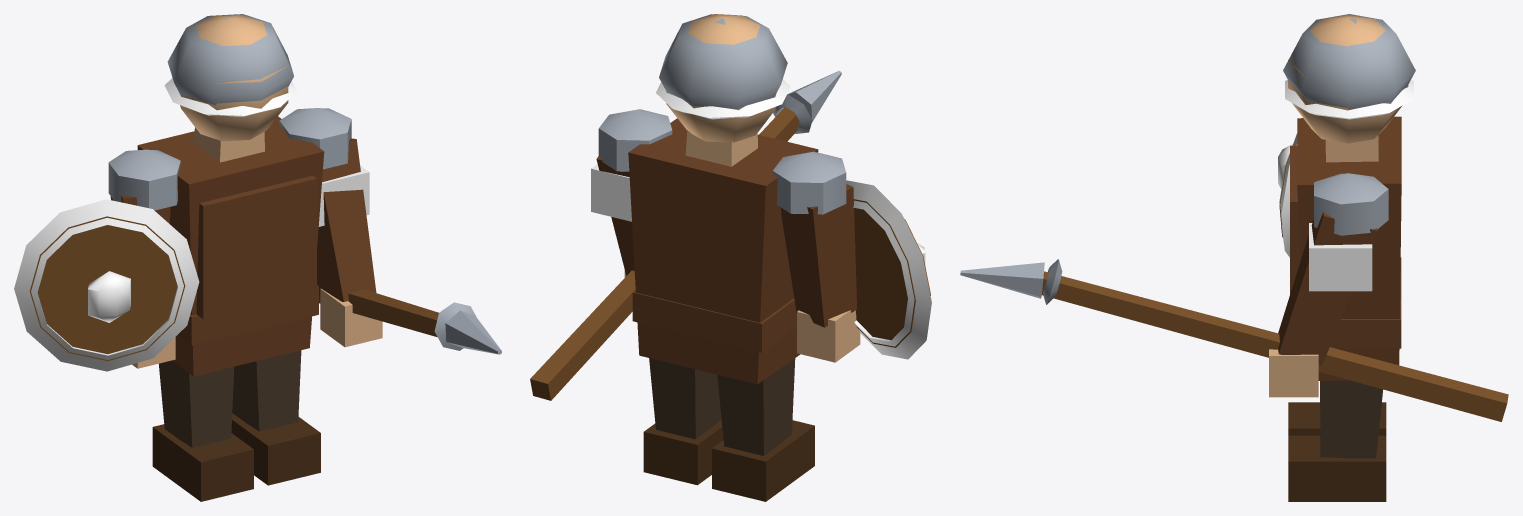
Rendered from Militia_SecondAge.glb.
3 renders of one model, left to right at view 1: azimuth 30°, elevation 25°; view 2: azimuth 150°, elevation 25°; view 3: azimuth 270°, elevation 25°, orthographic.
Visible parts, largest first — view 1: Leather, Steel, Left_Wood, Left_Team, Right_Leather, Skin, LegA_Dark, LegA_Trouser, LegB_Trouser, LegB_Dark, Right_Wood, Right_Skin (+3 smaller); view 2: Leather, Steel, Left_Leather, Left_Wood, LegA_Trouser, Skin, Left_Team, Right_Wood, LegA_Dark, LegB_Trouser, LegB_Dark, Left_Skin (+4 smaller); view 3: Leather, Steel, Right_Wood, Right_Leather, LegB_Dark, Skin, LegB_Trouser, Right_Team, Right_Steel, Right_Skin, Team, LegA_Dark (+1 smaller).
Part boxes in pixels (x1,y1,x2,y2): Leather: [137, 116, 324, 376]; Steel: [108, 14, 351, 210]; Left_Wood: [29, 216, 185, 360]; Left_Team: [14, 199, 199, 371]; Right_Leather: [317, 138, 376, 301]; Skin: [180, 14, 288, 162]; LegA_Dark: [152, 424, 253, 501]; LegA_Trouser: [159, 360, 234, 447]; LegB_Trouser: [232, 350, 301, 431]; LegB_Dark: [231, 413, 320, 485]; Right_Wood: [317, 284, 438, 337]; Right_Skin: [320, 288, 382, 347]; Leather: [628, 118, 818, 384]; Steel: [598, 14, 846, 214]; Left_Leather: [781, 184, 856, 327]; Left_Wood: [854, 199, 930, 347]; LegA_Trouser: [717, 358, 795, 455]; Skin: [666, 14, 776, 166]; Left_Team: [846, 180, 931, 359]; Right_Wood: [530, 107, 799, 400]; LegA_Dark: [712, 420, 814, 501]; LegB_Trouser: [649, 358, 721, 439]; LegB_Dark: [643, 420, 723, 485]; Left_Skin: [797, 310, 860, 362]; Leather: [1290, 116, 1401, 380]; Steel: [1283, 14, 1415, 235]; Right_Wood: [1042, 271, 1508, 421]; Right_Leather: [1278, 212, 1377, 365]; LegB_Dark: [1288, 435, 1386, 501]; Skin: [1288, 14, 1408, 162]; LegB_Trouser: [1320, 380, 1383, 458]; Right_Team: [1309, 223, 1372, 291]; Right_Steel: [960, 259, 1062, 304]; Right_Skin: [1269, 349, 1318, 397]; Team: [1285, 79, 1413, 119]; LegA_Dark: [1288, 402, 1386, 435].
Size of the model in its own units: 0.6095 by 0.7908 by 0.8658.
